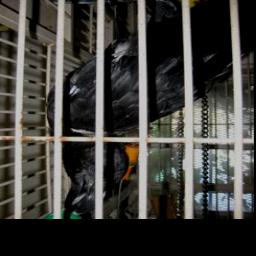Crow: (47, 0, 253, 216)
